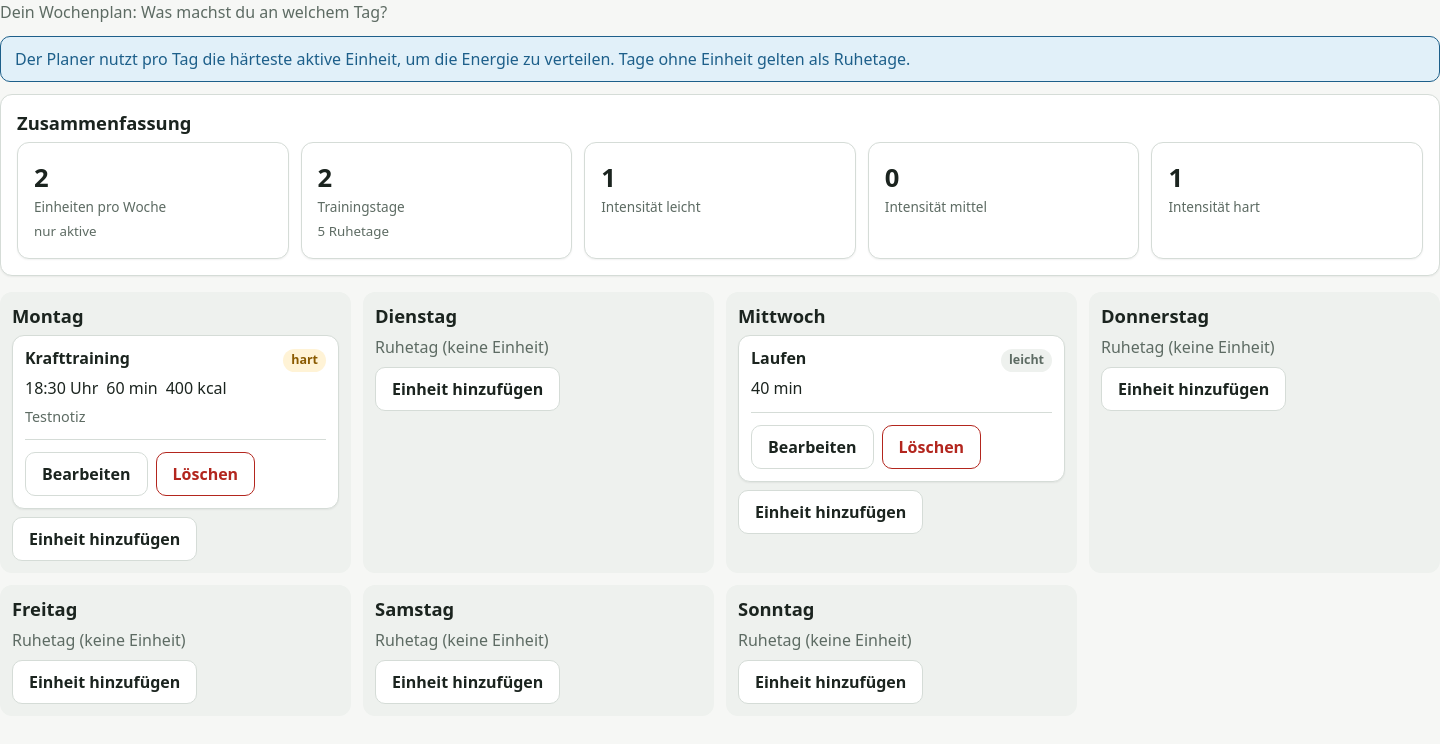
Test: Trainingsplan › bearbeitet eine Einheit und kann sie auf einen anderen Tag legen (PUT)
This screenshot has width=1440, height=744.
Click the button with aria-label "Krafttraining am Montag bearbeiten".
click(86, 474)  # box [25,452,148,496]
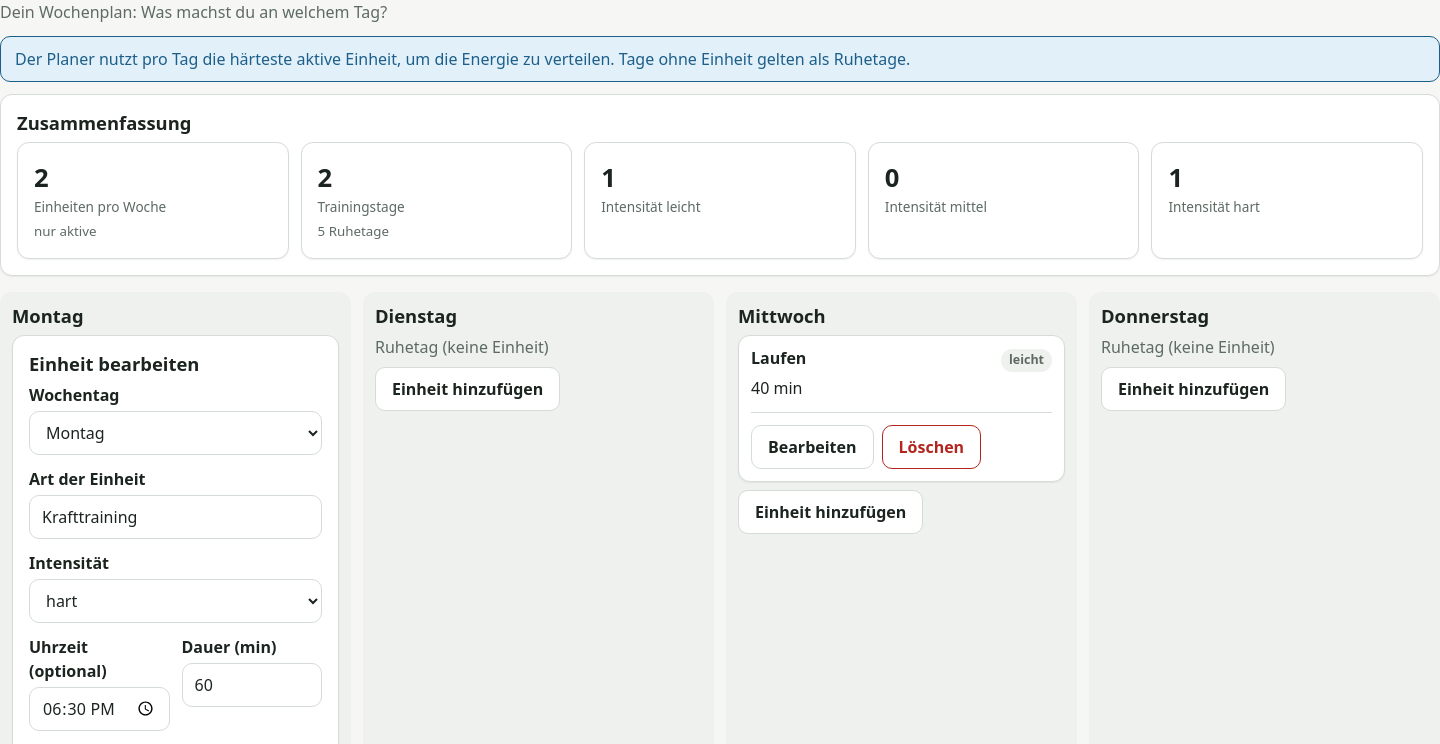
Expected: the time field labelled "Uhrzeit (optional)" holds "18:30", [29,687,170,731]
Expected: the dropdown labelled "Intensität" shows "hart", [29,579,322,623]
Select "Dienstag" in the dropdown labelled "Wochentag" at (176, 433), box [29,411,322,455]
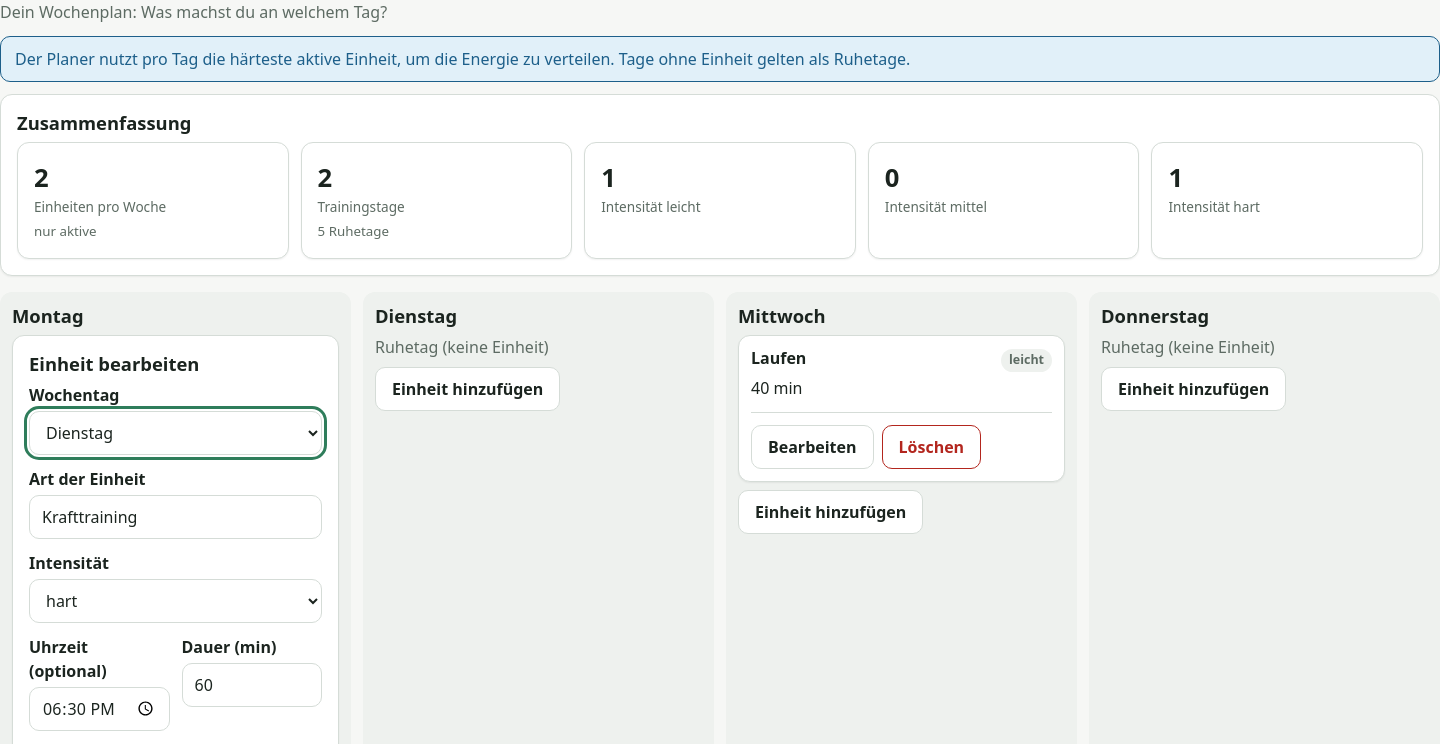
Select "mittel" in the dropdown labelled "Intensität" at (176, 601), box [29,579,322,623]
(page scrolled)
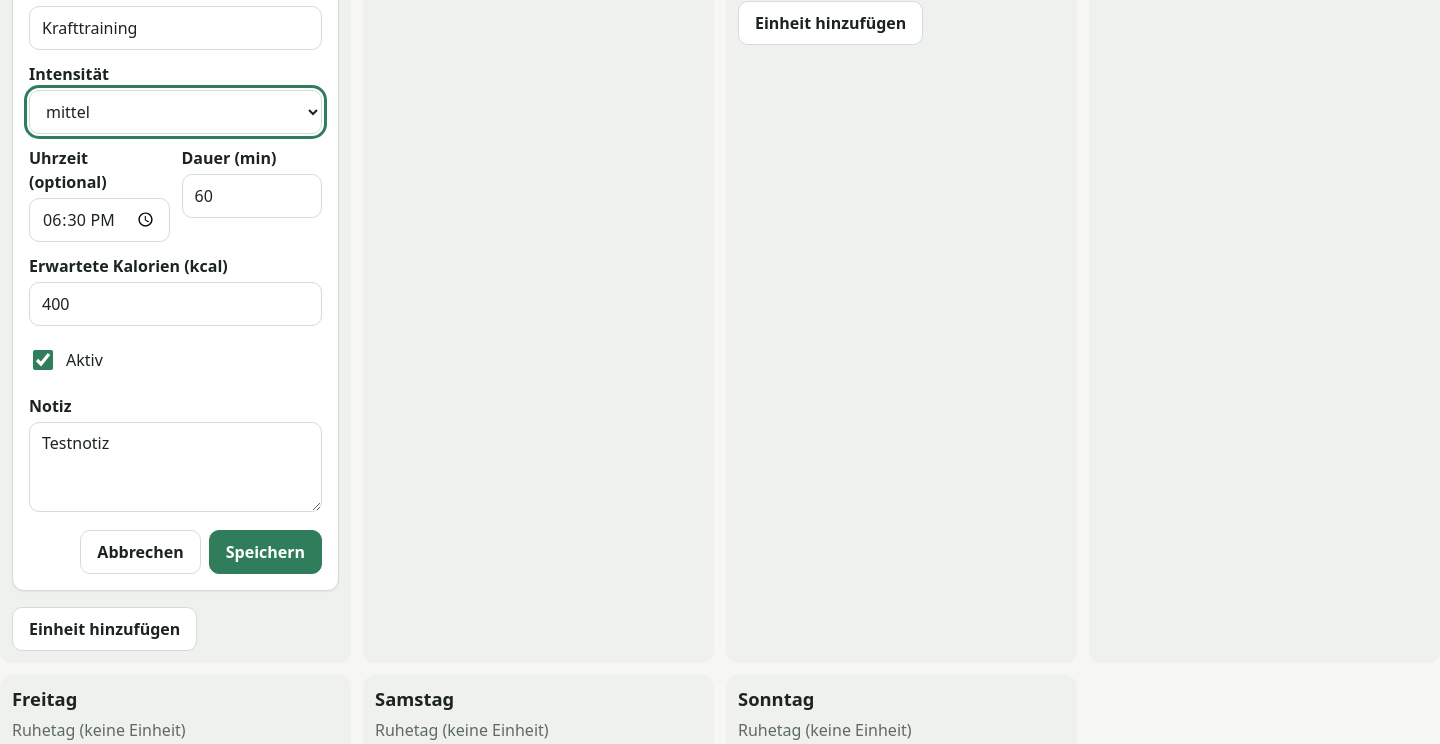
Click the checkbox labelled "Aktiv".
click(43, 360)  # box [33,350,53,370]
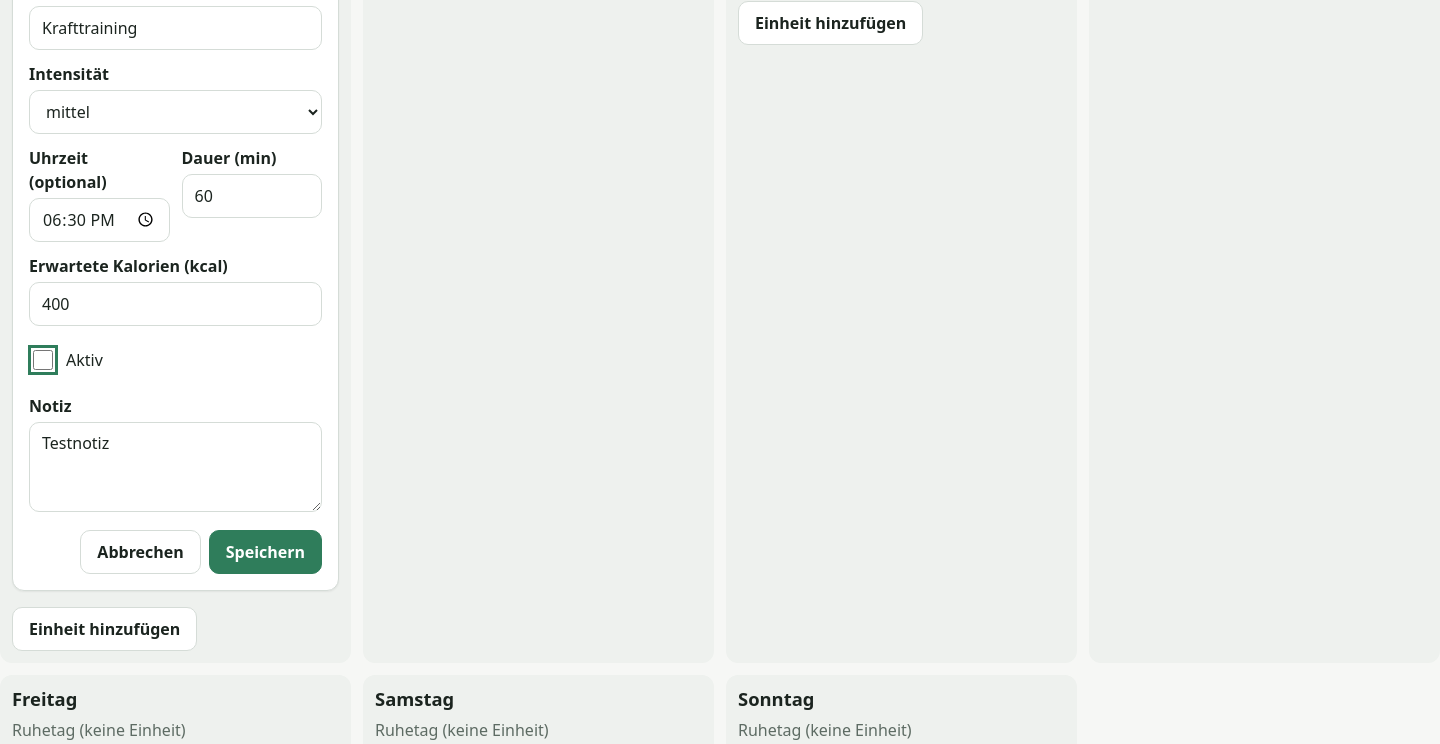
Click the button "Speichern".
click(265, 552)  # box [209,530,322,574]
(page scrolled)
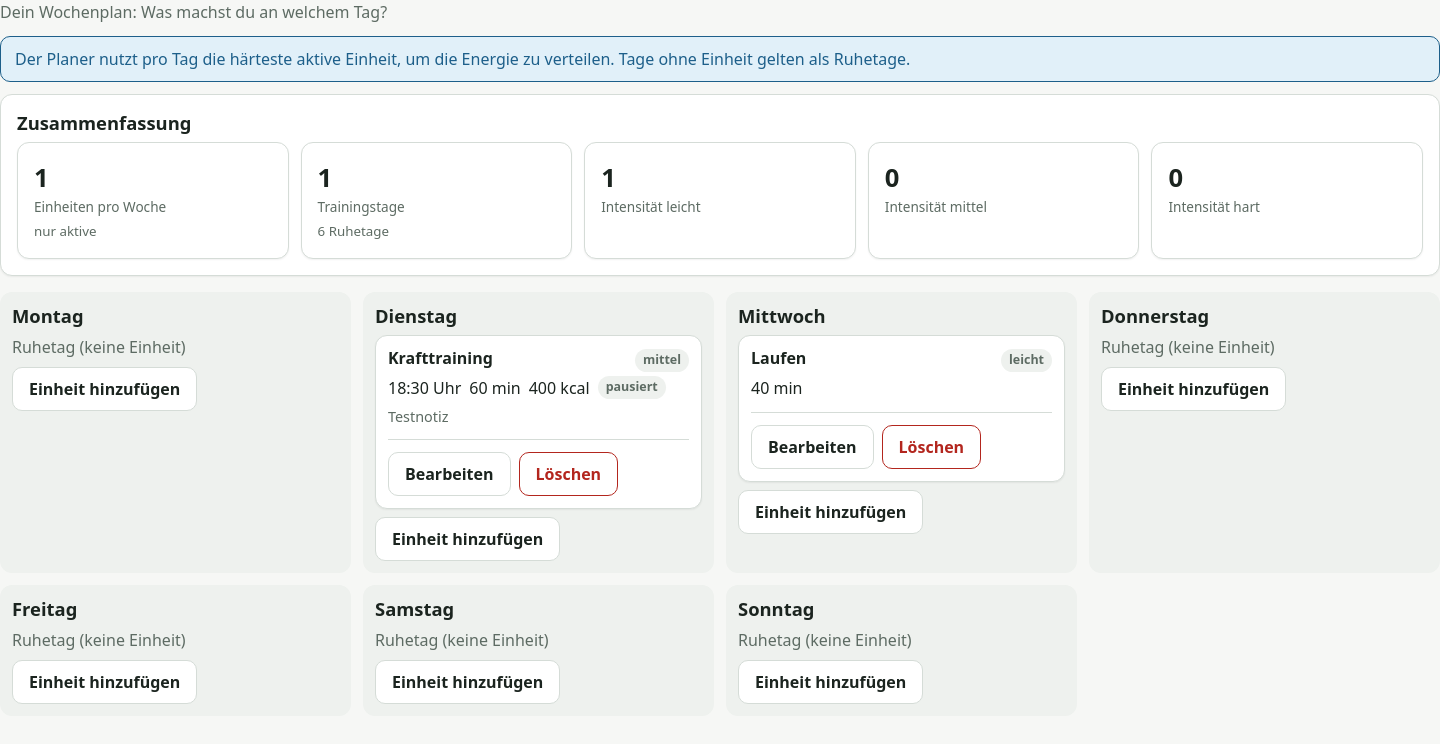
Expected: the text "Ruhetag (keine Einheit)" below "Montag" is shown, [12,336,186,358]
Expected: the heading "Krafttraining" is shown, [388,348,493,368]
